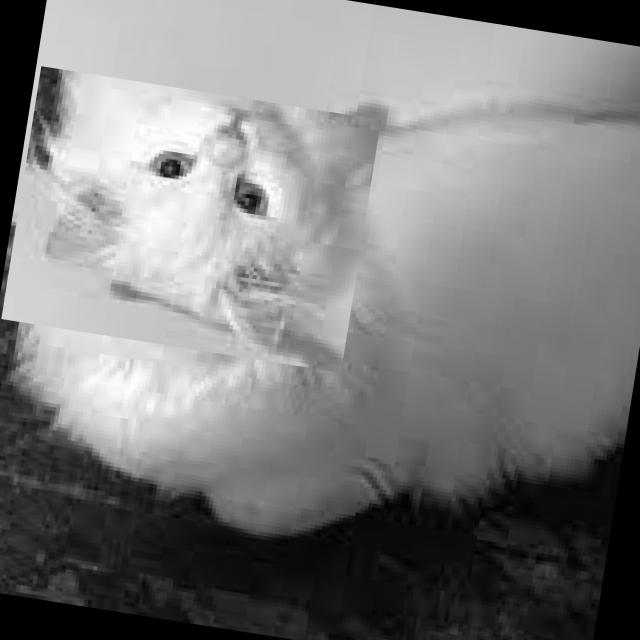british: (1, 66, 381, 372)
